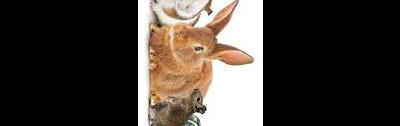Non_Gorille: (140, 0, 261, 126)
